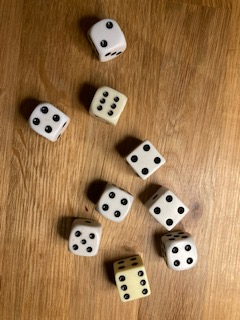five: (66, 215, 105, 259)
four: (142, 184, 191, 232), (26, 100, 72, 143), (123, 138, 168, 180), (159, 229, 200, 273), (93, 182, 135, 223)
six: (111, 253, 152, 304), (86, 83, 131, 128)
two: (86, 17, 128, 62)
